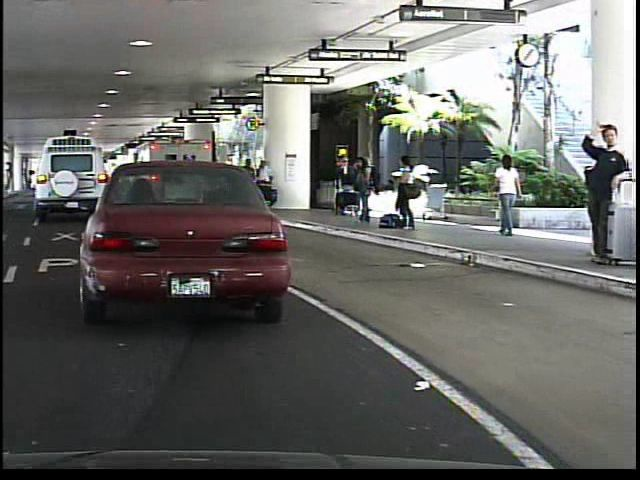person: (575, 117, 630, 267), (487, 154, 525, 238), (389, 153, 416, 232)
